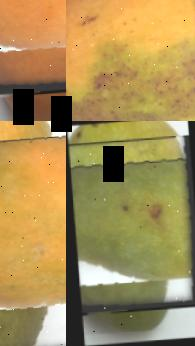PartiallyRipe: (0, 121, 66, 346)
Ripe: (66, 0, 195, 121), (0, 0, 66, 95)
Unripe: (67, 135, 195, 312)
